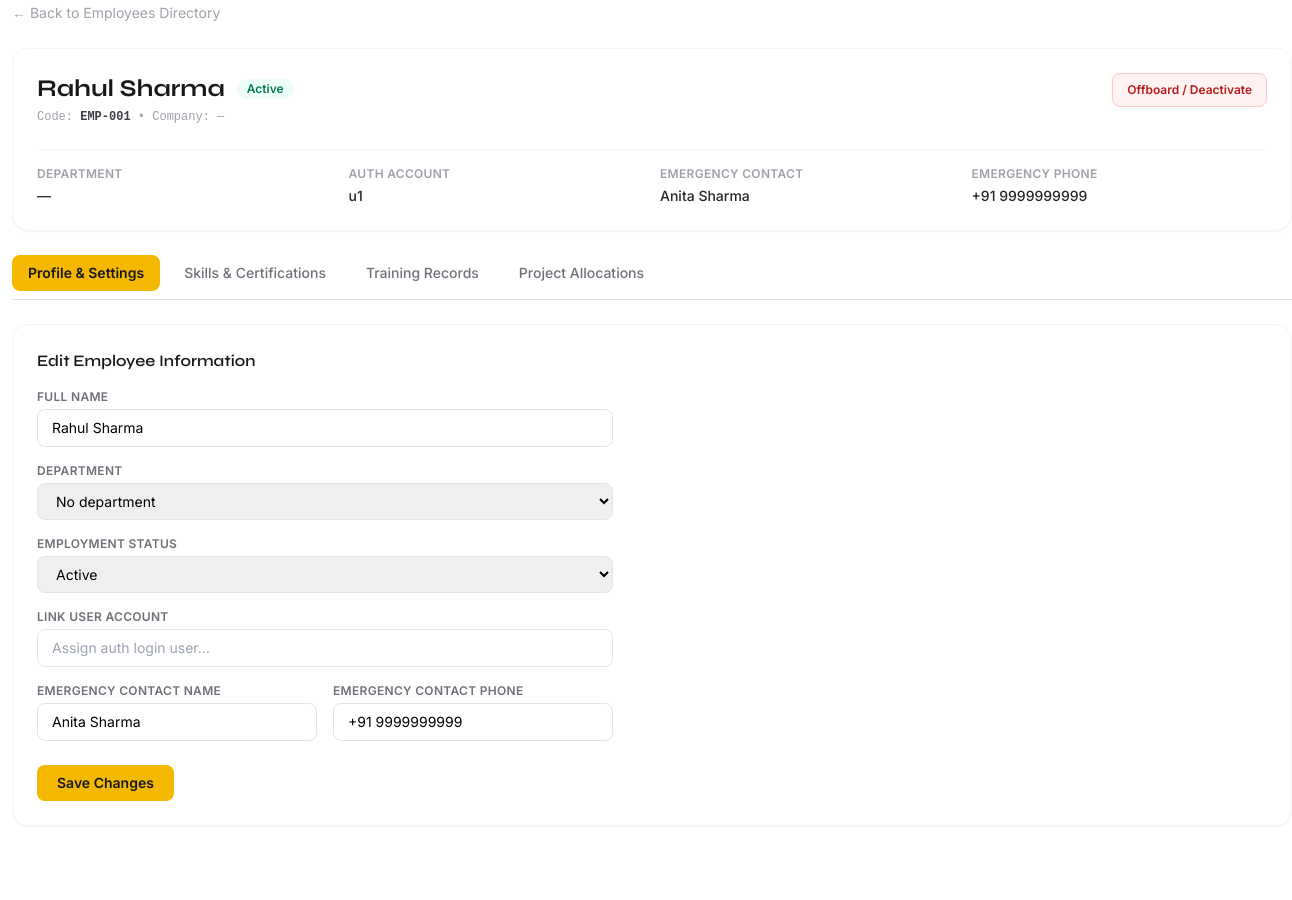
Scenario: EmployeeDetailPage › deactivates the employee
Expected: the heading "Rahul Sharma" is shown, [37,73,225,105]
Click the button "Offboard / Deactivate". click: (1190, 90)
box: [1112,73,1267,107]
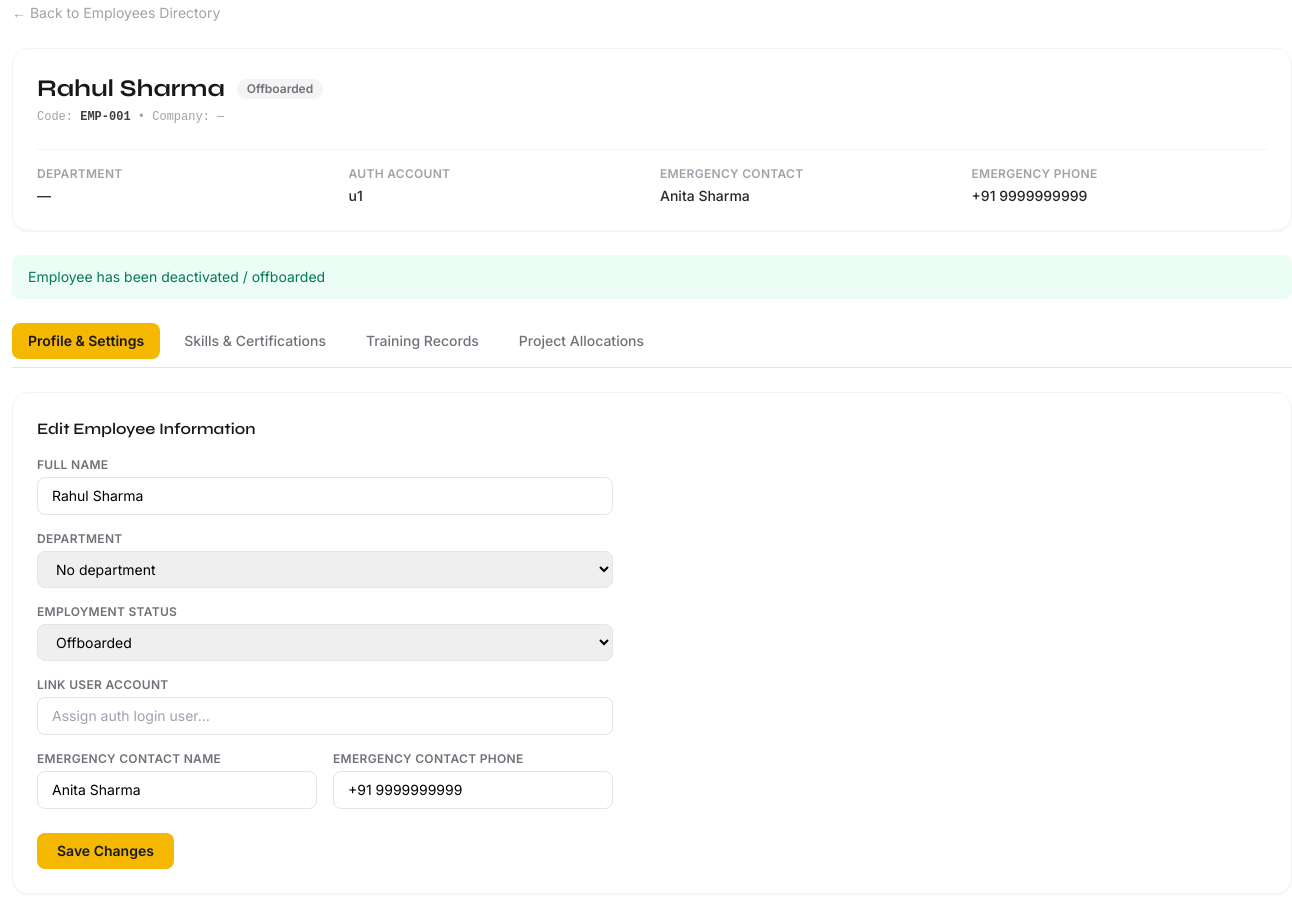
Expected: the text "Employee has been deactivated / offboarded" is shown, [12,255,1291,299]
